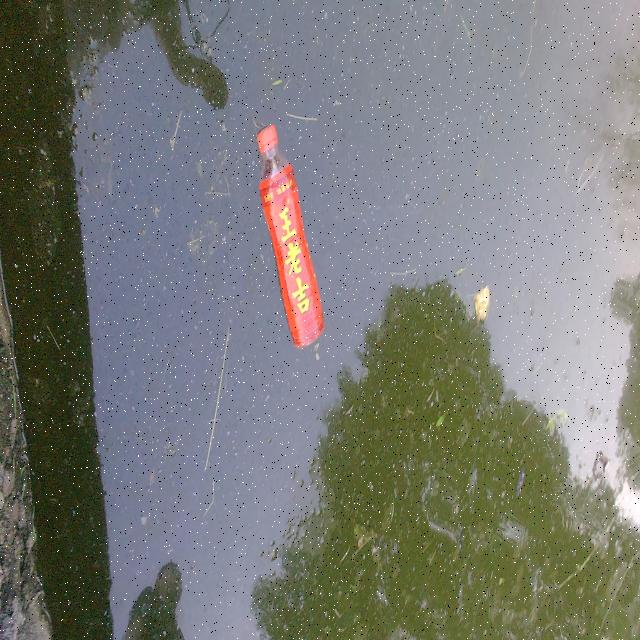Bottle: (252, 120, 326, 352)
